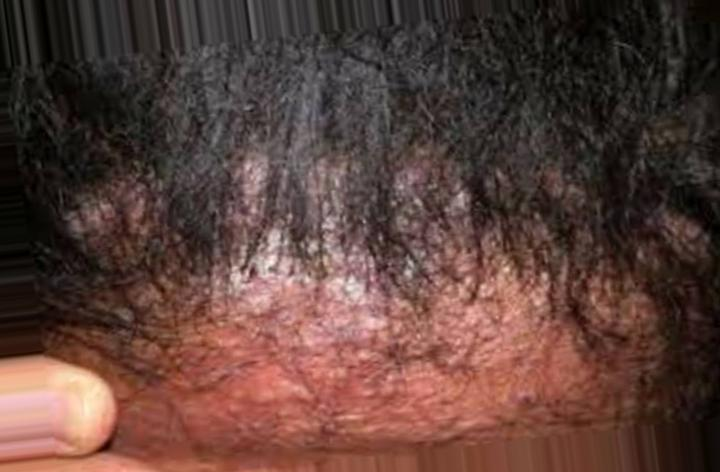Folliculitis: (119, 188, 591, 412)
